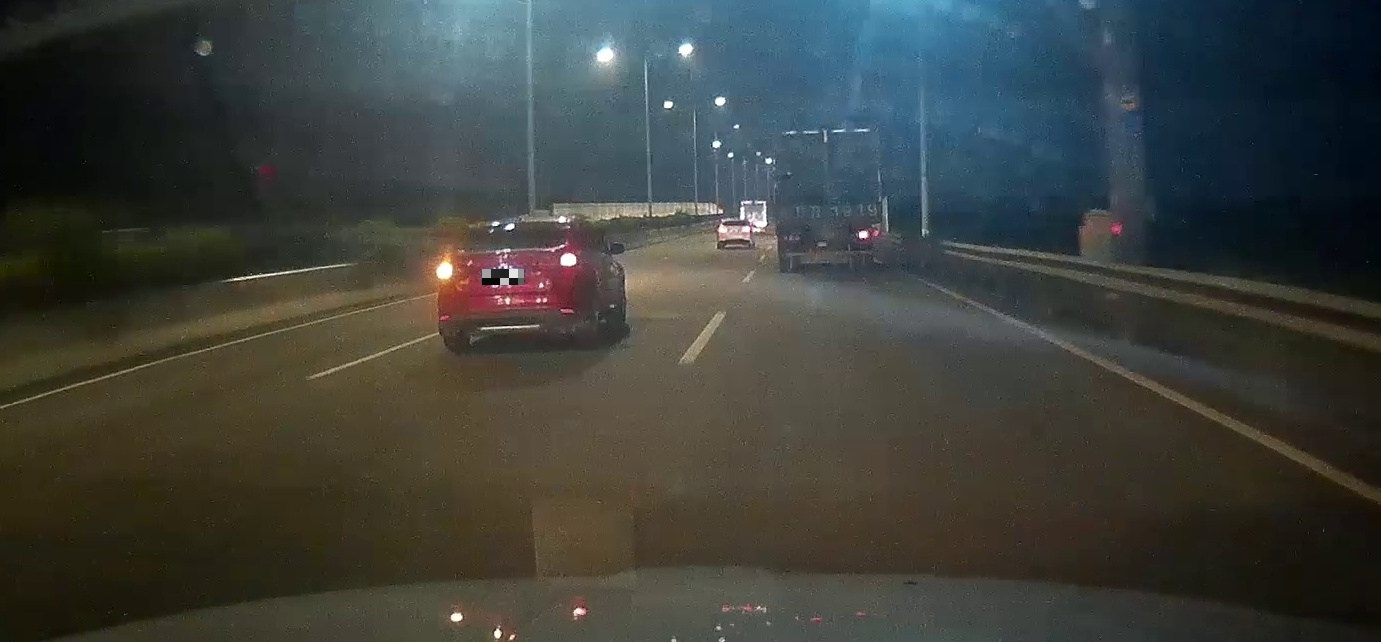L_light: (436, 262, 461, 280), (780, 233, 801, 241)
R_light: (553, 252, 580, 269), (853, 230, 872, 238)
T_light: (499, 222, 522, 228), (818, 132, 834, 138)
night-left: (435, 216, 585, 353)
night-right: (774, 128, 877, 272)
plate_1: (482, 269, 524, 285)
